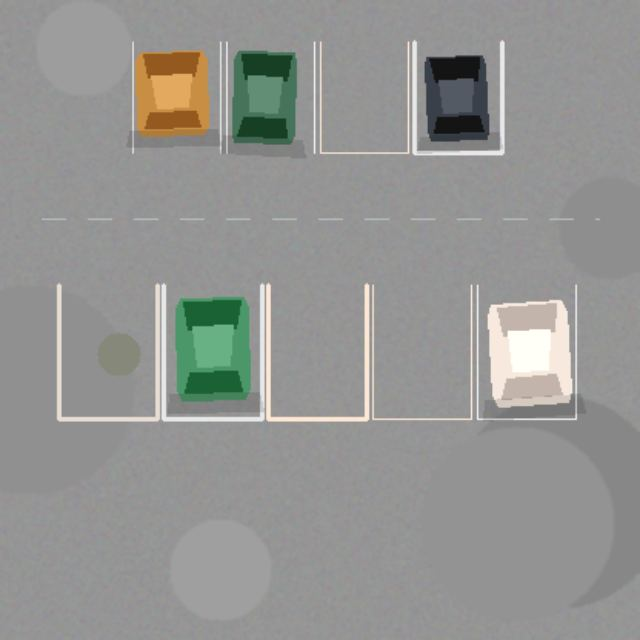space-empty: (58, 285, 157, 418), (372, 285, 471, 418), (268, 285, 366, 418), (320, 42, 408, 152)
space-occupied: (163, 285, 262, 418), (477, 285, 575, 418), (132, 42, 220, 152), (226, 42, 314, 152), (414, 42, 502, 152)
